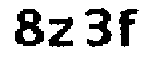3: (84, 5, 112, 52)
8: (12, 3, 44, 50)
f: (117, 3, 141, 49)
z: (46, 14, 76, 50)
